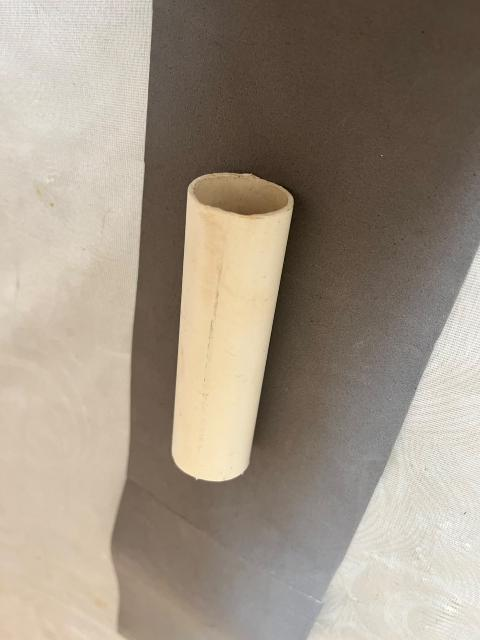PVC: (145, 152, 311, 520)
